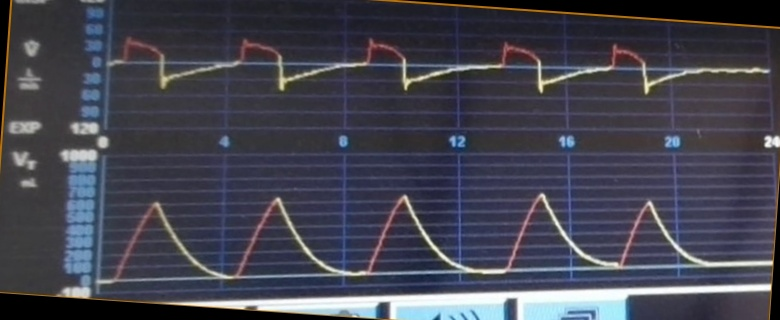Normal Flow: (111, 34, 766, 119)
Normal Volume: (105, 186, 768, 282)
